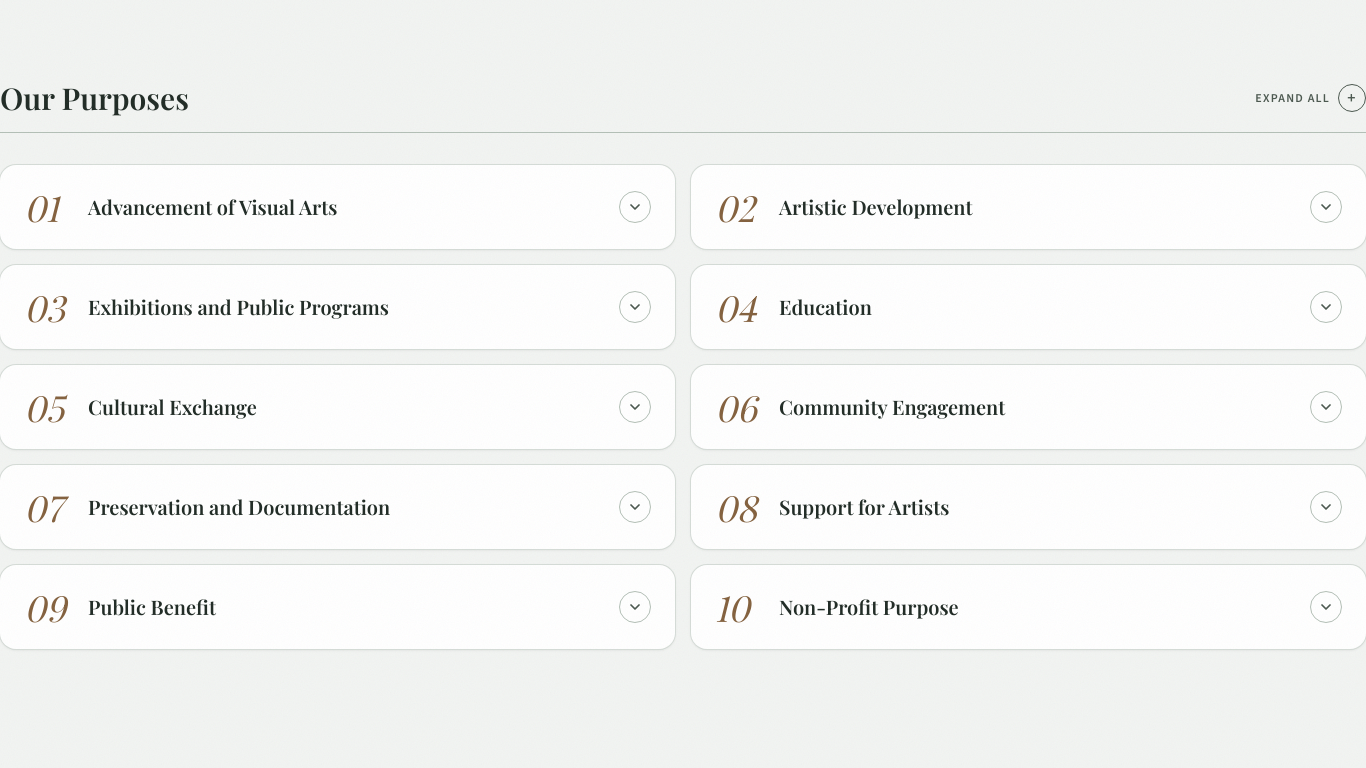
Test: PurposesSection › expands all, then offers to collapse all
Step 1. Click the button "Expand all +" → (1311,100), box [1255,84,1365,116]
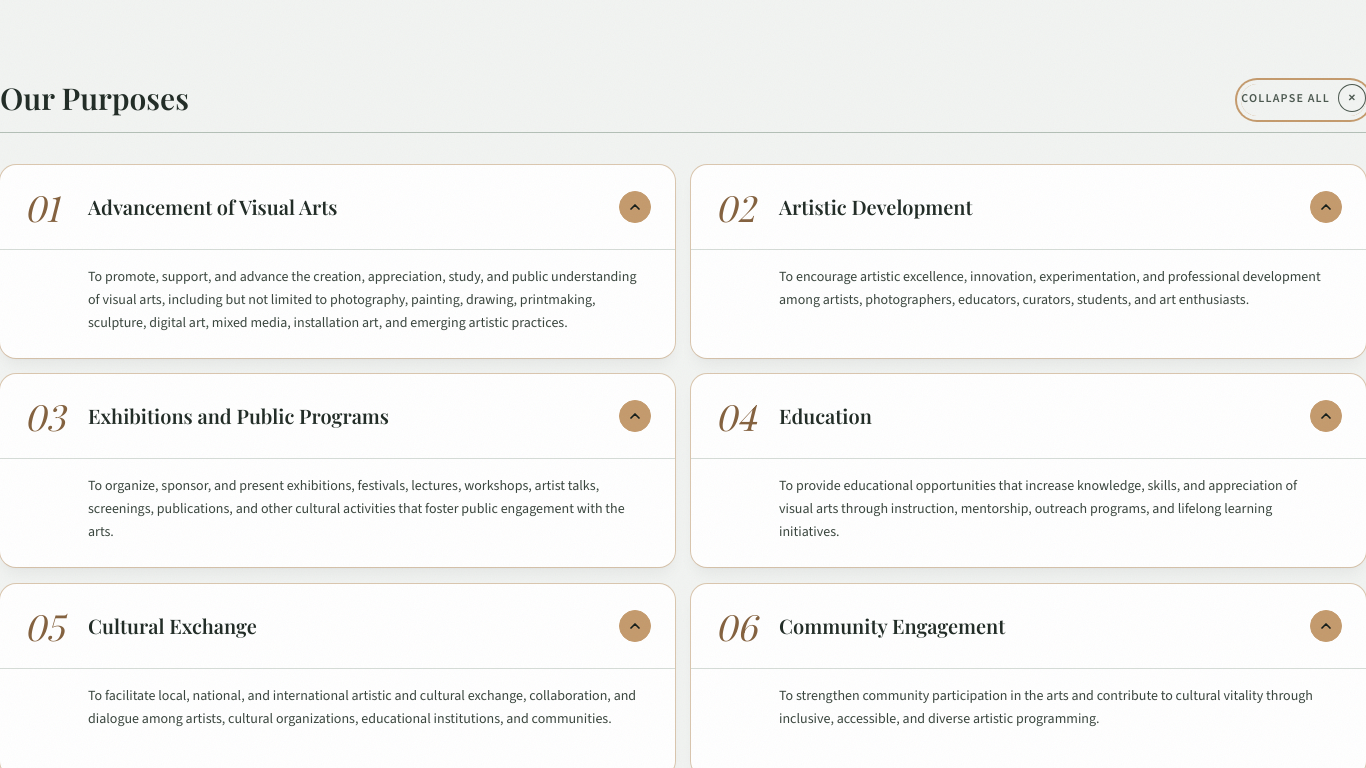
expect the button "01 Advancement of Visual Arts" is expanded: met, box [0,165,675,249]
expect the button "02 Artistic Development" is expanded: met, box [691,165,1365,249]
expect the button "03 Exhibitions and Public Programs" is expanded: met, box [0,374,675,458]
Step 2. Click the button "Collapse all +" → (1304,100), box [1241,84,1365,116]
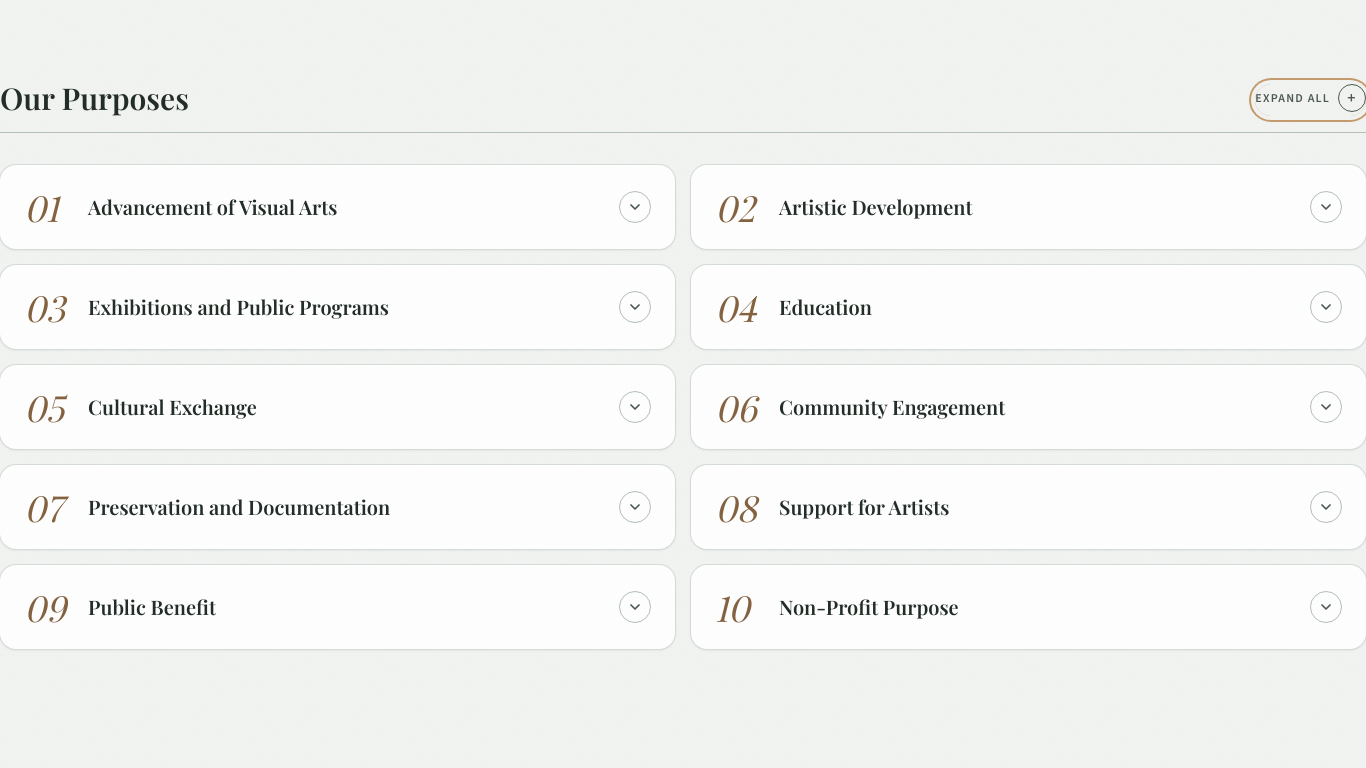
expect the button "01 Advancement of Visual Arts" is collapsed: met, box [0,165,675,249]
expect the button "02 Artistic Development" is collapsed: met, box [691,165,1365,249]
expect the button "03 Exhibitions and Public Programs" is collapsed: met, box [0,265,675,349]
